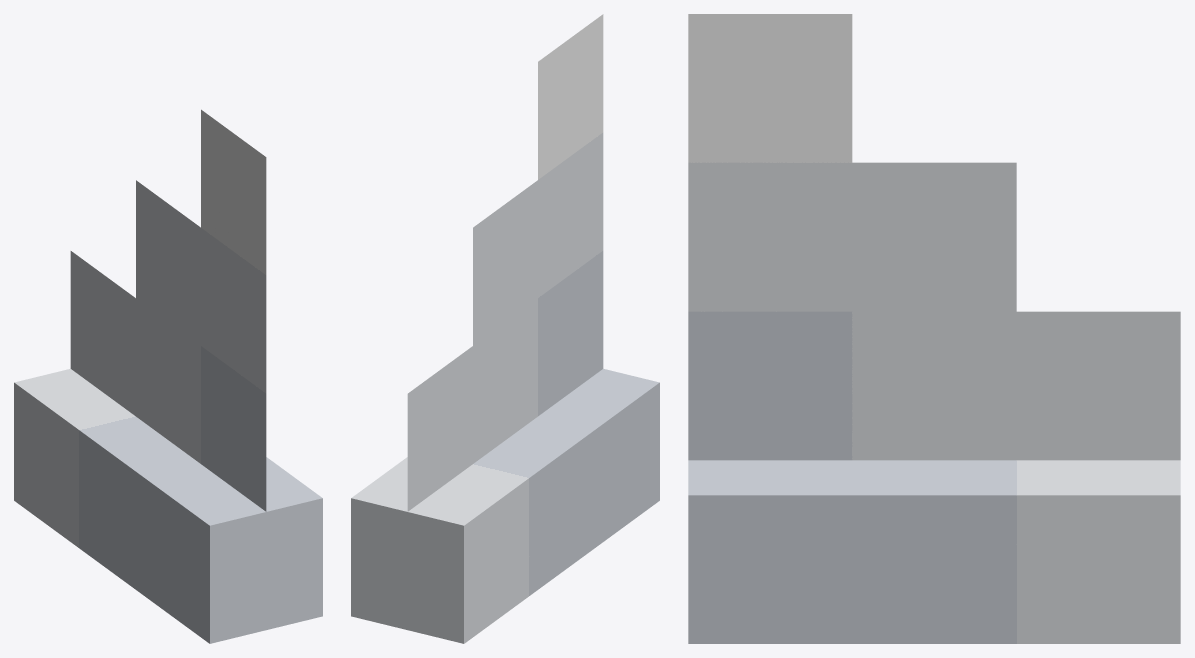
The model's file is MakoTooth.fbx.
3 views of the same model, side by side, from view 1: azimuth 30°, elevation 25°; view 2: azimuth 150°, elevation 25°; view 3: azimuth 270°, elevation 25° (orthographic). The views are drawn at different scales.
Visible parts, largest first — view 1: tooth, tooth_1; view 2: tooth, tooth_1; view 3: tooth_1, tooth.
Part boxes in pixels (left/top/right/bottom): tooth: left=14, top=369, right=322, bottom=643; tooth_1: left=70, top=109, right=266, bottom=511; tooth: left=351, top=369, right=659, bottom=643; tooth_1: left=407, top=14, right=603, bottom=511; tooth_1: left=688, top=14, right=1180, bottom=460; tooth: left=688, top=460, right=1180, bottom=643.
Bounding box in the file's own units: 3.12 × 12.5 × 9.38.
1 material, 1 textured.
